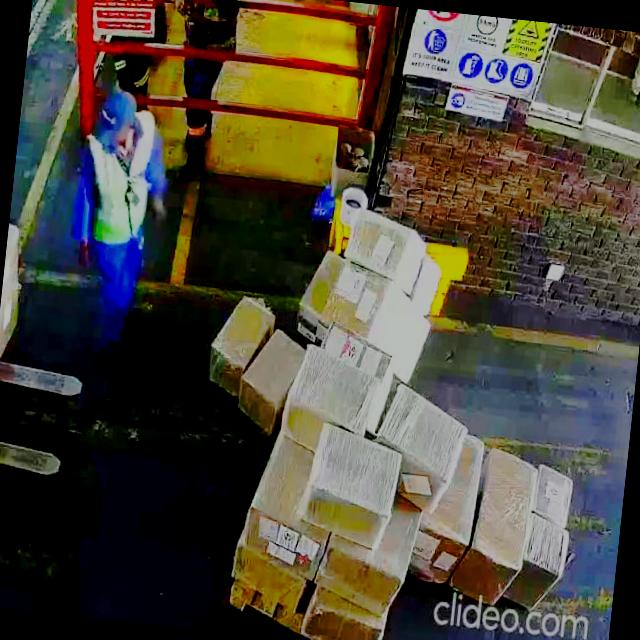Box: (297, 422, 405, 550), (374, 380, 472, 514), (466, 448, 532, 616), (331, 270, 435, 368), (285, 342, 377, 442), (349, 210, 426, 286), (202, 288, 264, 382), (242, 502, 320, 574), (518, 513, 570, 610), (242, 333, 298, 422), (321, 544, 396, 606), (412, 510, 458, 594), (304, 597, 388, 640), (533, 459, 579, 522)
